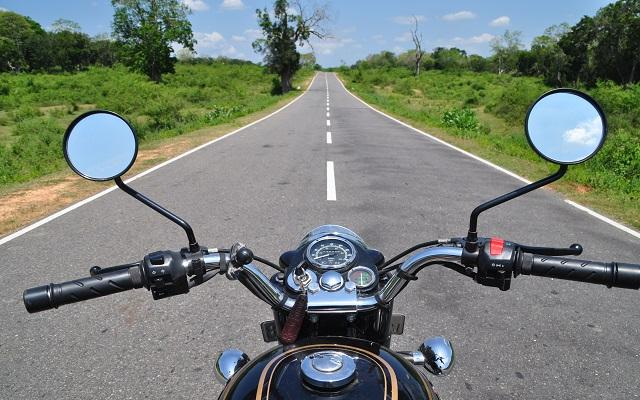motorbike: (23, 87, 640, 400)
